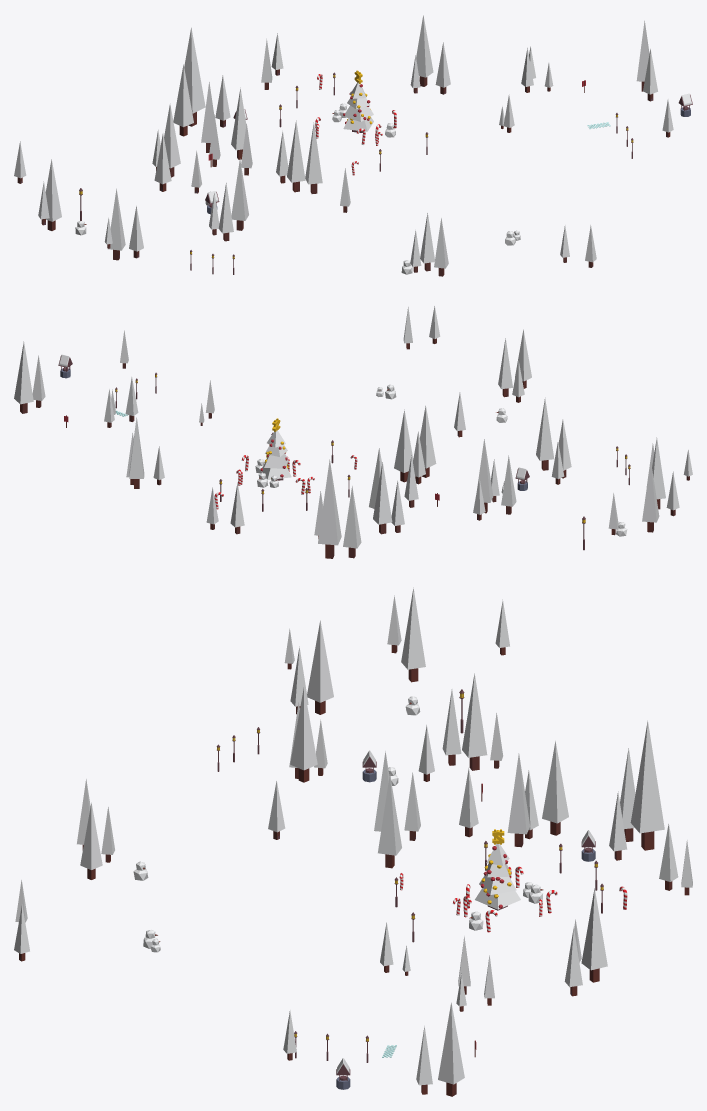
Rendered from Tundra_deco.fbx.
3 views of the same model, one above another, from view 1: azimuth 30°, elevation 25°; view 2: azimuth 150°, elevation 25°; view 3: azimuth 270°, elevation 25° (orthographic). The views are drawn at different scales.
Visible parts, largest first — view 1: C_Tree, Tree.022, Tree.020, Tree.017, Tree.025, Tree.003, Tree.015, Tree.028, Tree.008, Tree.031, Tree.018, Tree.009 (+9 smaller); view 2: Tree.022, C_Tree, Tree.034, Tree.014, Tree.015, Tree.003, Tree.020, Tree.028, Tree.017, Tree.025, Tree.008, Tree.031 (+8 smaller); view 3: Tree.022, C_Tree, Tree.003, Tree.031, Tree.014, Tree.034, Tree.008, Tree.025, Tree.028, Tree.015, Tree.018, Tree (+2 smaller).
Boxes of the visible parts, x1,y1,x2,y2 form: C_Tree: (343, 70, 373, 132); Tree.022: (184, 27, 205, 126); Tree.020: (173, 64, 193, 136); Tree.017: (287, 120, 305, 192); Tree.025: (416, 15, 433, 86); Tree.003: (231, 158, 248, 230); Tree.015: (305, 122, 322, 193); Tree.028: (45, 159, 61, 230); Tree.008: (164, 103, 180, 177); Tree.031: (108, 188, 125, 260); Tree.018: (231, 87, 246, 159); Tree.009: (154, 133, 171, 191); Tree.022: (318, 459, 341, 558); C_Tree: (260, 418, 291, 480); Tree.034: (14, 341, 33, 413); Tree.014: (373, 462, 392, 534); Tree.015: (394, 409, 413, 482); Tree.003: (536, 397, 554, 470); Tree.020: (343, 486, 361, 558); Tree.028: (642, 460, 659, 532); Tree.017: (419, 405, 436, 477); Tree.025: (129, 417, 144, 488); Tree.008: (477, 439, 493, 513); Tree.031: (652, 437, 665, 509); Tree.022: (630, 720, 664, 850); C_Tree: (475, 829, 520, 910); Tree.003: (290, 687, 317, 782); Tree.031: (307, 620, 333, 714); Tree.014: (542, 741, 568, 835); Tree.034: (438, 1002, 464, 1096); Tree.008: (462, 673, 487, 770); Tree.025: (581, 888, 607, 982); Tree.028: (401, 587, 425, 682); Tree.015: (378, 774, 401, 868); Tree.018: (507, 753, 530, 847); Tree: (80, 802, 102, 879).
Bounding box in the file's own units: 4859 × 815 × 3427.
